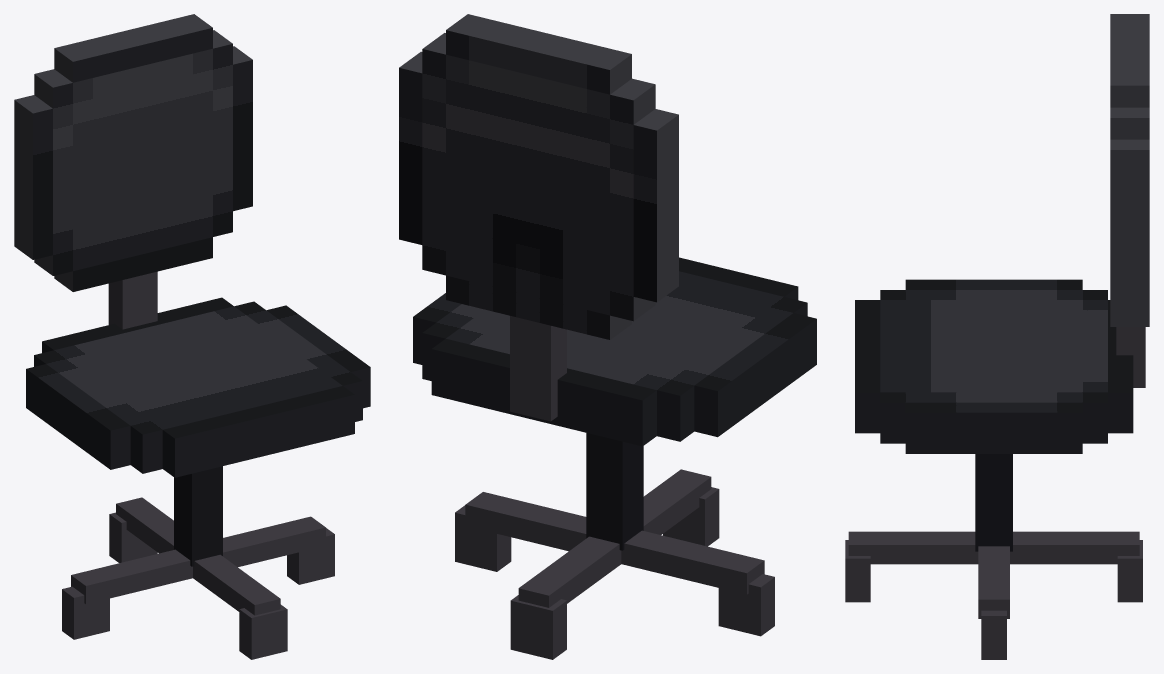
The model's file is office_chair_dark.glb.
3 views of the same model, side by side, from view 1: azimuth 30°, elevation 25°; view 2: azimuth 150°, elevation 25°; view 3: azimuth 270°, elevation 25° (orthographic). The views are drawn at different scales.
Parts seen in each view (by area): view 1: office_chair_dark_Swivel_Seat_Assembly, office_chair_dark_Pedestal_And_Base, Caster_3, Caster_1, Caster_2, Caster_4; view 2: office_chair_dark_Swivel_Seat_Assembly, office_chair_dark_Pedestal_And_Base, Caster_4, Caster_1, Caster_2, Caster_3; view 3: office_chair_dark_Swivel_Seat_Assembly, office_chair_dark_Pedestal_And_Base, Caster_2, Caster_3, Caster_4.
Boxes of the visible parts, box(x1,y1,x2,y2) form: office_chair_dark_Swivel_Seat_Assembly: box(14, 14, 370, 477); office_chair_dark_Pedestal_And_Base: box(71, 466, 325, 615); Caster_3: box(239, 604, 287, 659); Caster_1: box(62, 586, 109, 639); Caster_2: box(287, 528, 334, 584); Caster_4: box(109, 512, 157, 562); office_chair_dark_Swivel_Seat_Assembly: box(399, 14, 816, 446); office_chair_dark_Pedestal_And_Base: box(465, 433, 764, 607); Caster_4: box(510, 595, 566, 659); Caster_1: box(718, 574, 774, 636); Caster_2: box(455, 505, 511, 571); Caster_3: box(663, 487, 719, 546); office_chair_dark_Swivel_Seat_Assembly: box(855, 14, 1149, 453); office_chair_dark_Pedestal_And_Base: box(848, 454, 1139, 618); Caster_2: box(981, 610, 1006, 659); Caster_3: box(845, 540, 870, 602); Caster_4: box(1117, 540, 1142, 602).
Bounding box in the file's own units: 0.522 × 0.99 × 0.503.
Materials: 1 (1 with a texture image).
